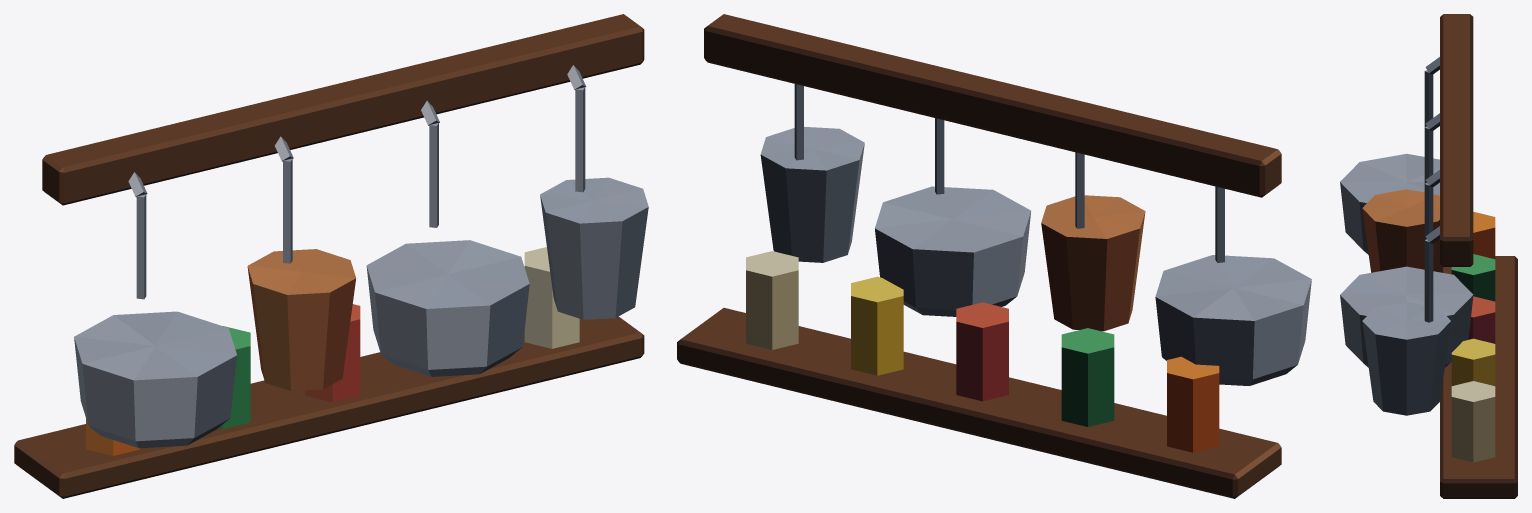
File: kitchen_rack.glb
3 views of the same model, side by side, from view 1: azimuth 30°, elevation 25°; view 2: azimuth 150°, elevation 25°; view 3: azimuth 270°, elevation 25° (orthographic). The views are drawn at different scales.
Visible parts, largest first — view 1: kitchen_rack; view 2: kitchen_rack; view 3: kitchen_rack.
Boxes of the visible parts, box(x1,y1,x2,y2) form: kitchen_rack: box(14, 14, 648, 498); kitchen_rack: box(677, 14, 1311, 498); kitchen_rack: box(1340, 14, 1517, 498).
Size of the model in its own units: 0.96 by 0.52 by 0.32.
